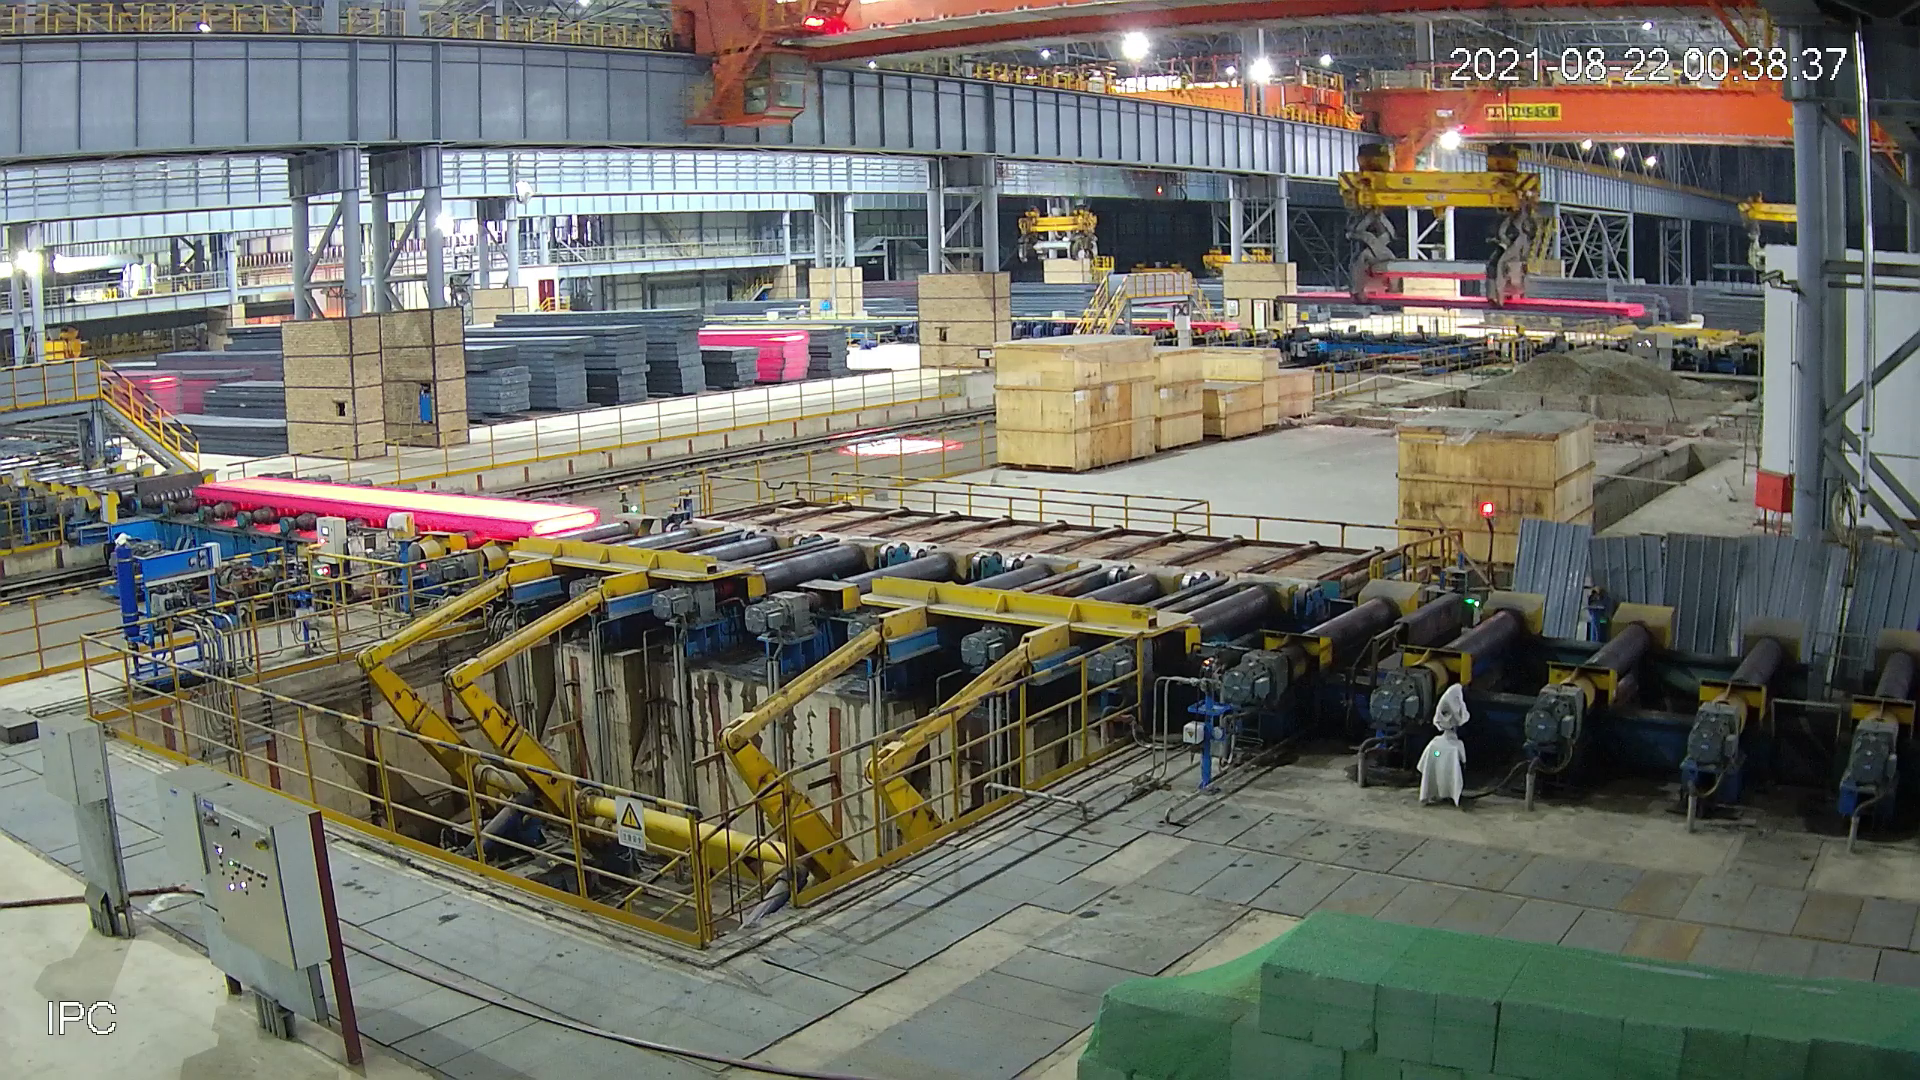craneandslab: (1262, 41, 1651, 331)
slab: (185, 473, 605, 546)
